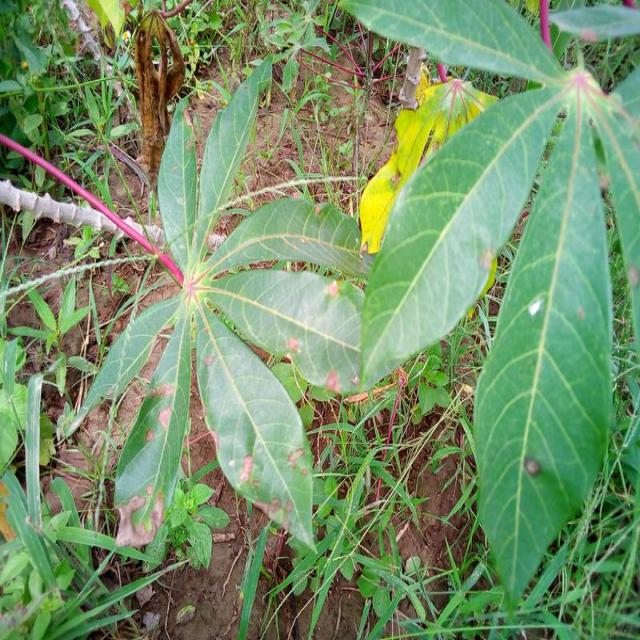cassava leaf: (61, 53, 368, 560), (472, 78, 614, 610), (358, 78, 570, 393), (194, 296, 316, 556)
